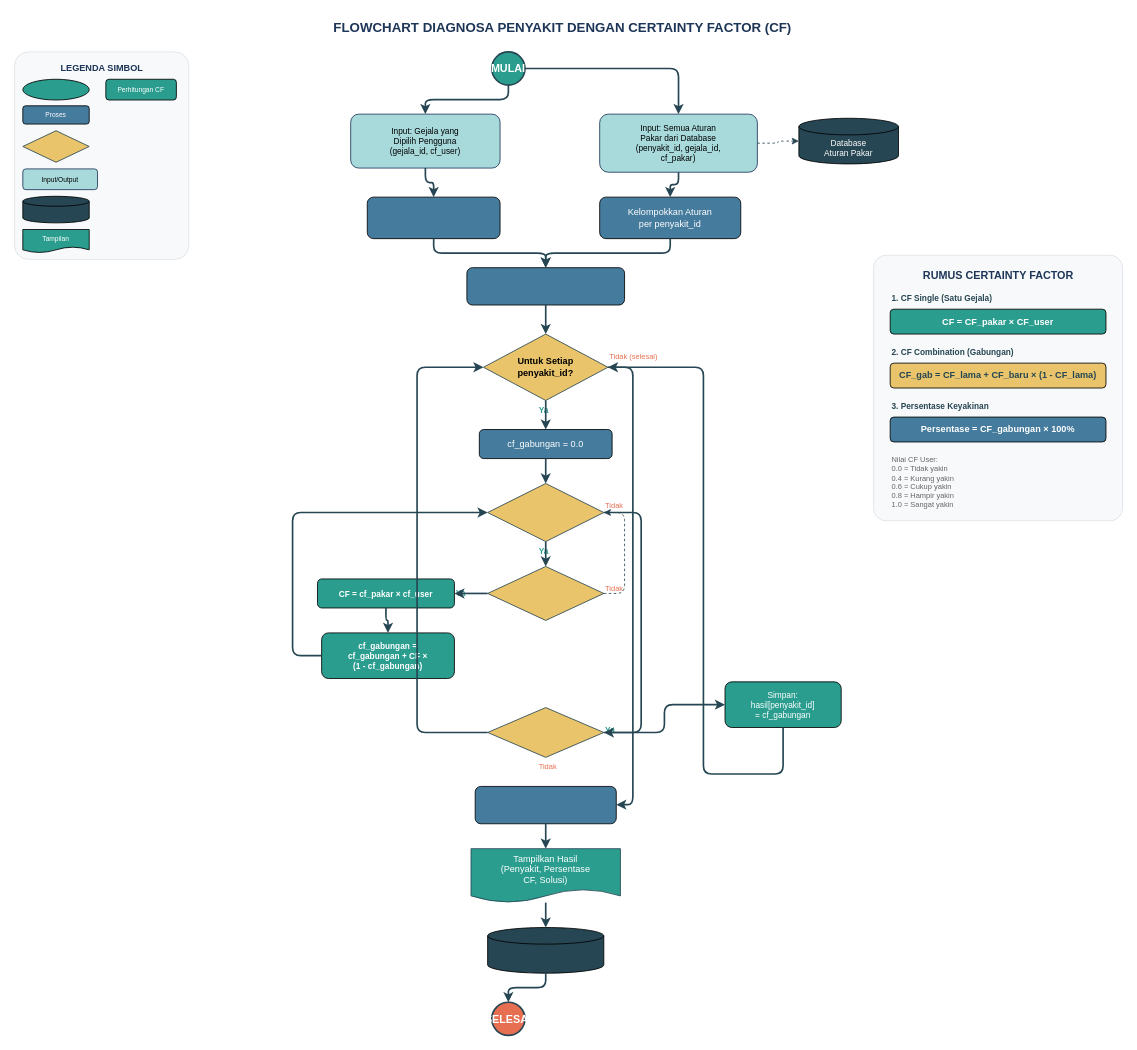
Image size: 1137x1050. Some labels were removed from this diagram. Each missing label, with the centre of its shape:
"Buat Map: {gejala_id: cf_user}" goes at (x=433, y=217).
"cf_gabungan > 0?" goes at (x=545, y=732).
"Database" goes at (x=55, y=209).
"gejala_id ada di map user?" goes at (x=545, y=593).
"Inisialisasi: hasil = {} (kosong)" goes at (x=545, y=286).
"Keputusan" goes at (x=55, y=146).
"Mulai/Selesai" goes at (x=55, y=89).
"Simpan ke Riwayat Diagnosa" goes at (x=545, y=950).
"Untuk Setiap aturan?" goes at (x=545, y=512).
"Urutkan hasil berdasarkan CF tertinggi" goes at (x=545, y=805).
